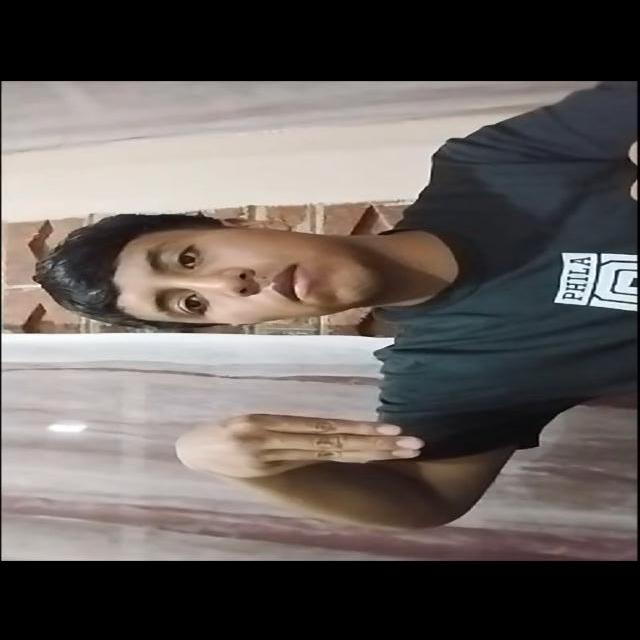M: (170, 395, 442, 492)
